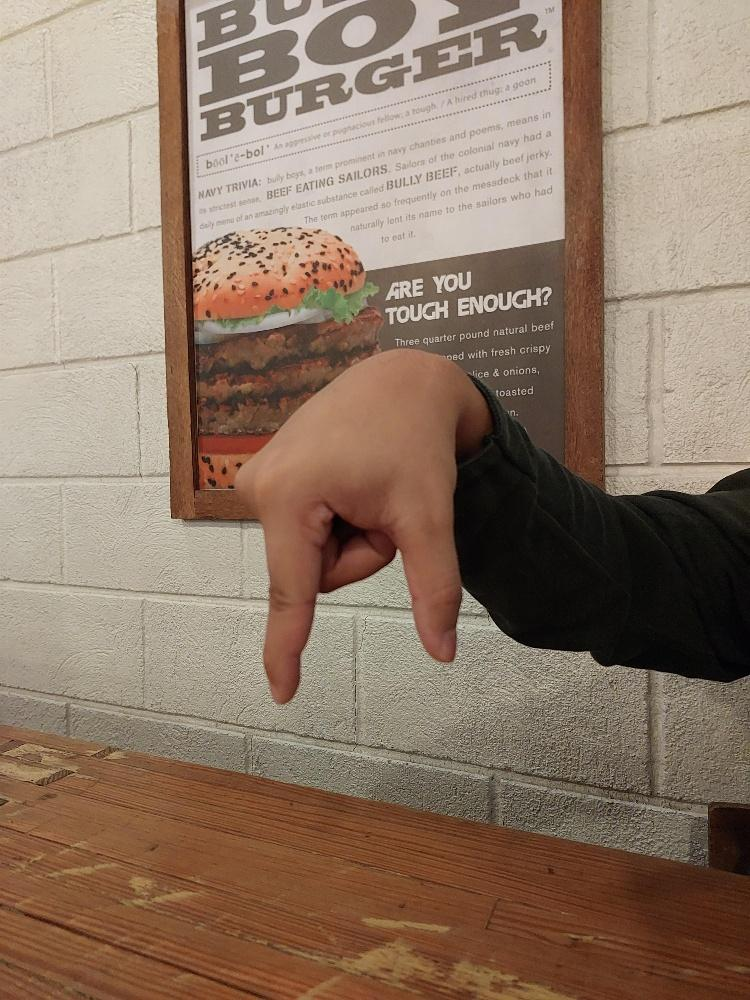q: (231, 345, 468, 708)
